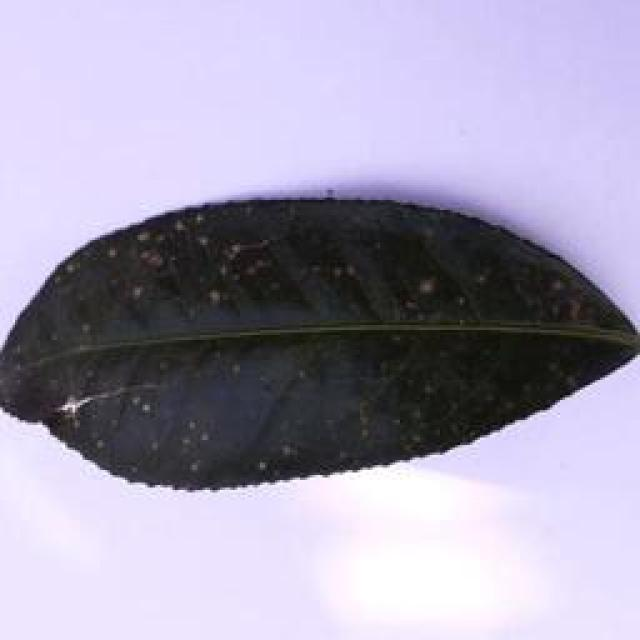Algal Leaf Spot: (2, 202, 640, 507)
